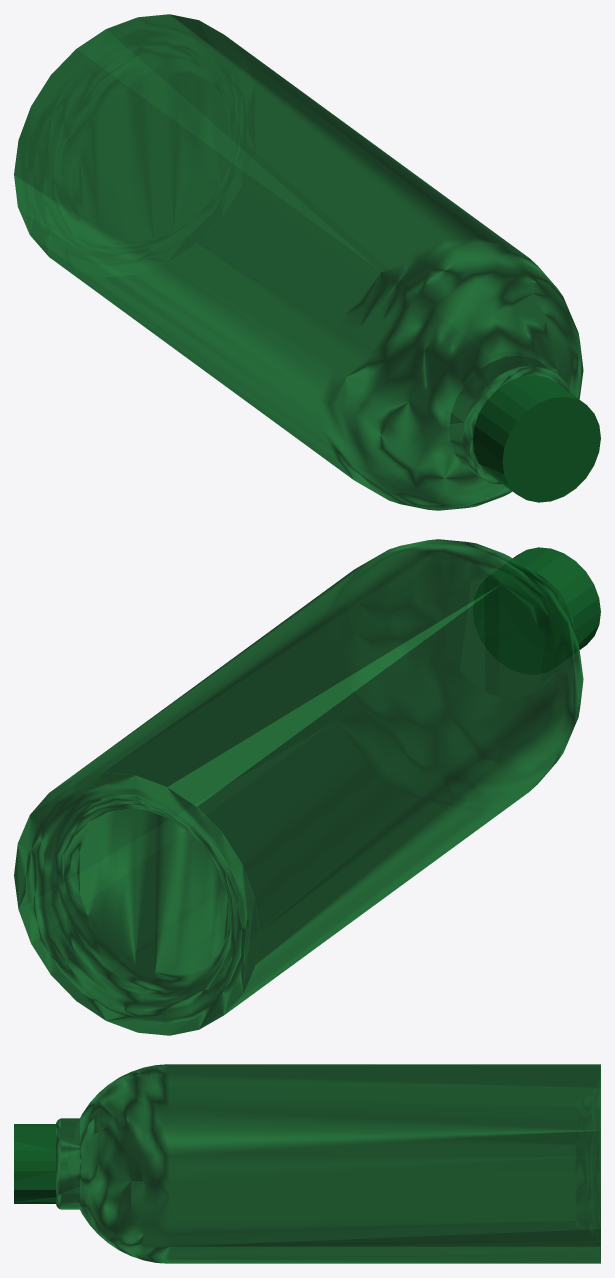
File: model_align.obj
The picture shows the model from 3 angles, top to bottom: view 1: azimuth 30°, elevation 25°; view 2: azimuth 150°, elevation 25°; view 3: azimuth 270°, elevation 25°; orthographic projection. The views are drawn at different scales.
Bounding box in the file's own units: 0.0607 × 0.0607 × 0.1778.
